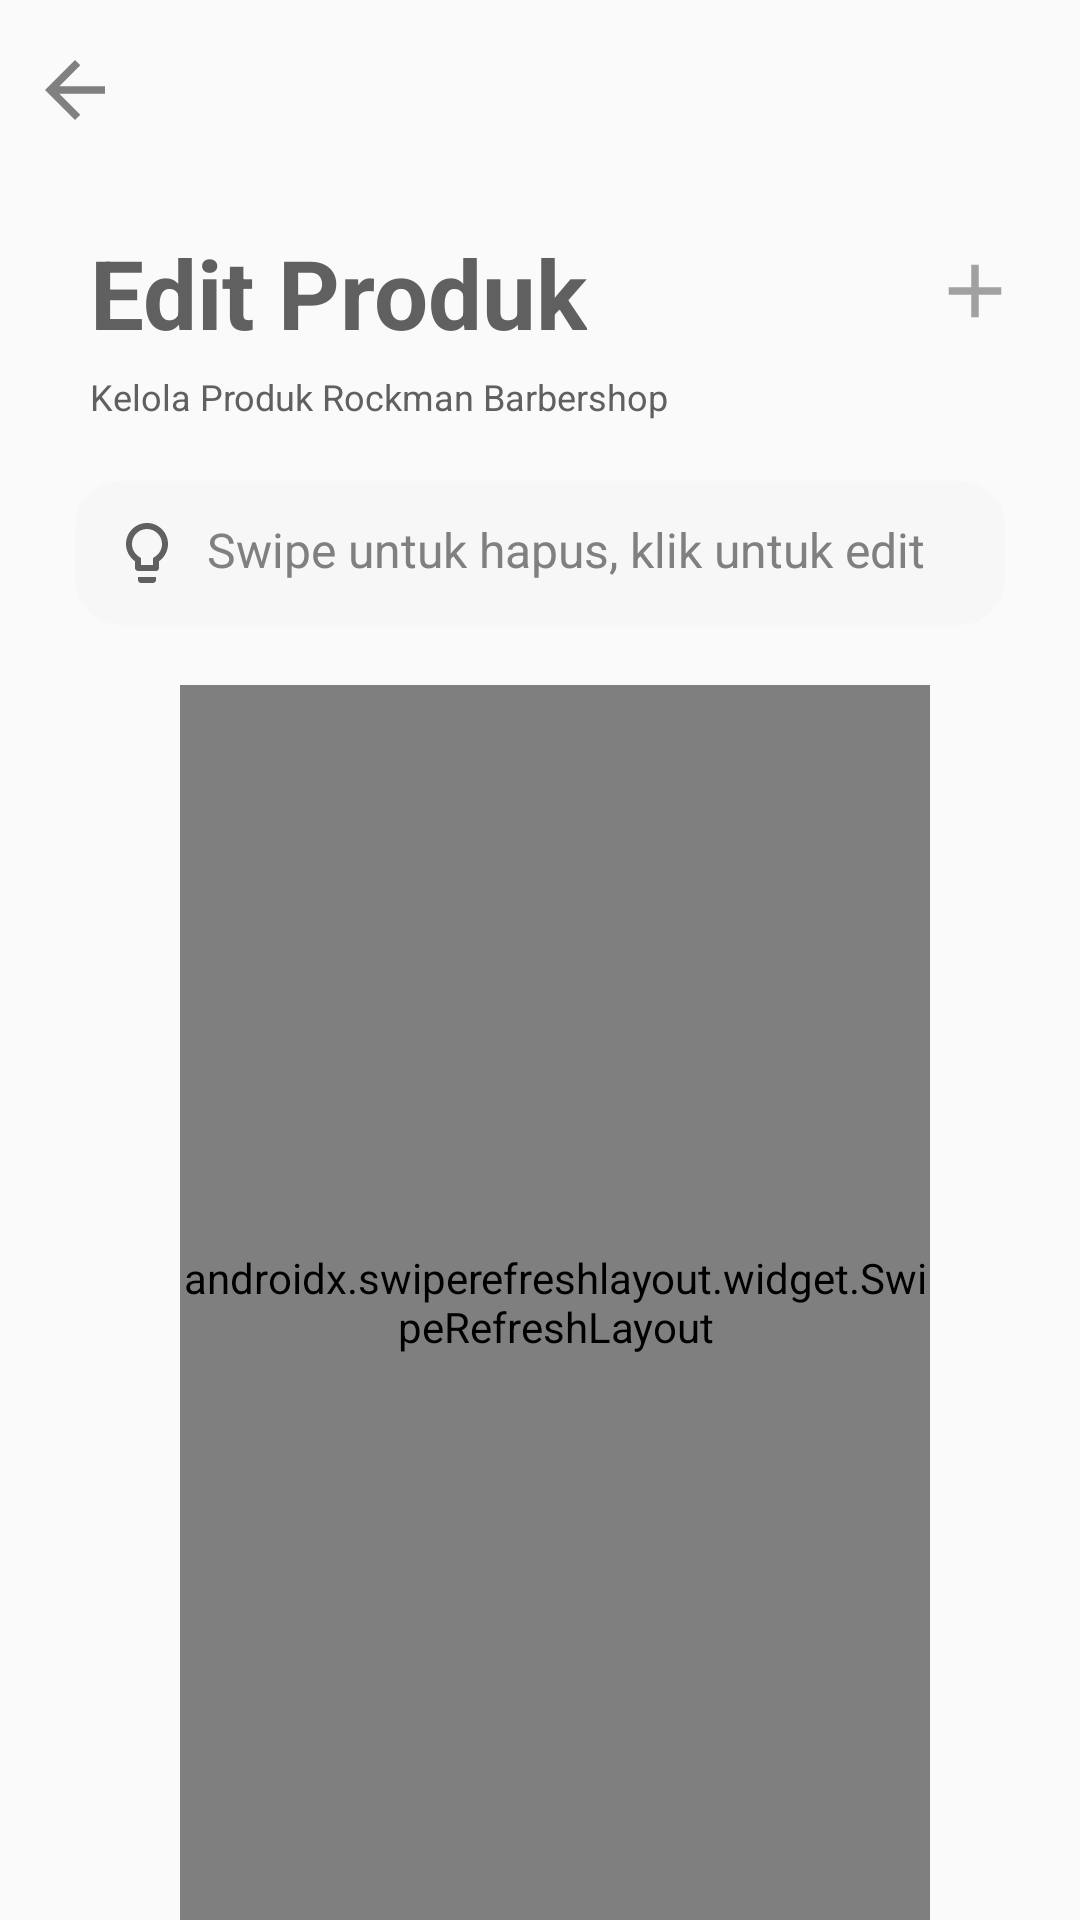

Icons on this 1080×1920 Android screen, each with the point to tap as (x,y):
add: (975,291)
arrow back: (75,90)
